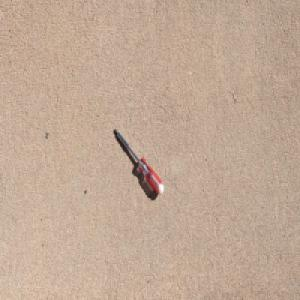Screwdriver: (113, 126, 166, 197)
